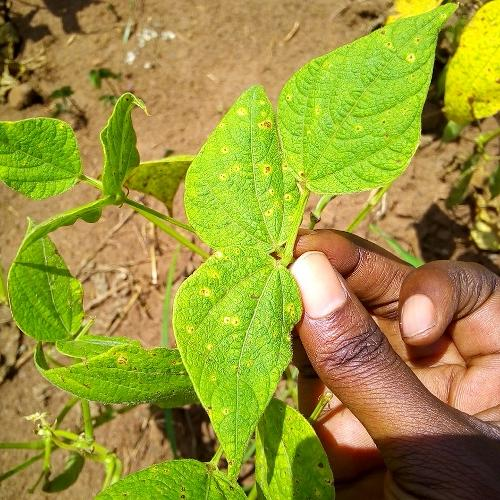hawar: (178, 265, 254, 384), (196, 130, 244, 201), (372, 26, 420, 76), (230, 99, 274, 137), (252, 157, 279, 189)
